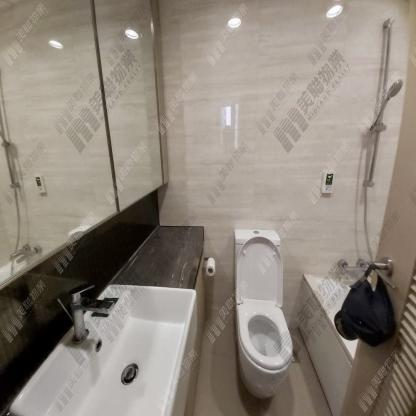Faucet: (57, 280, 113, 345)
Toilet: (230, 226, 297, 400)
Toilet Sink: (12, 284, 197, 415)
